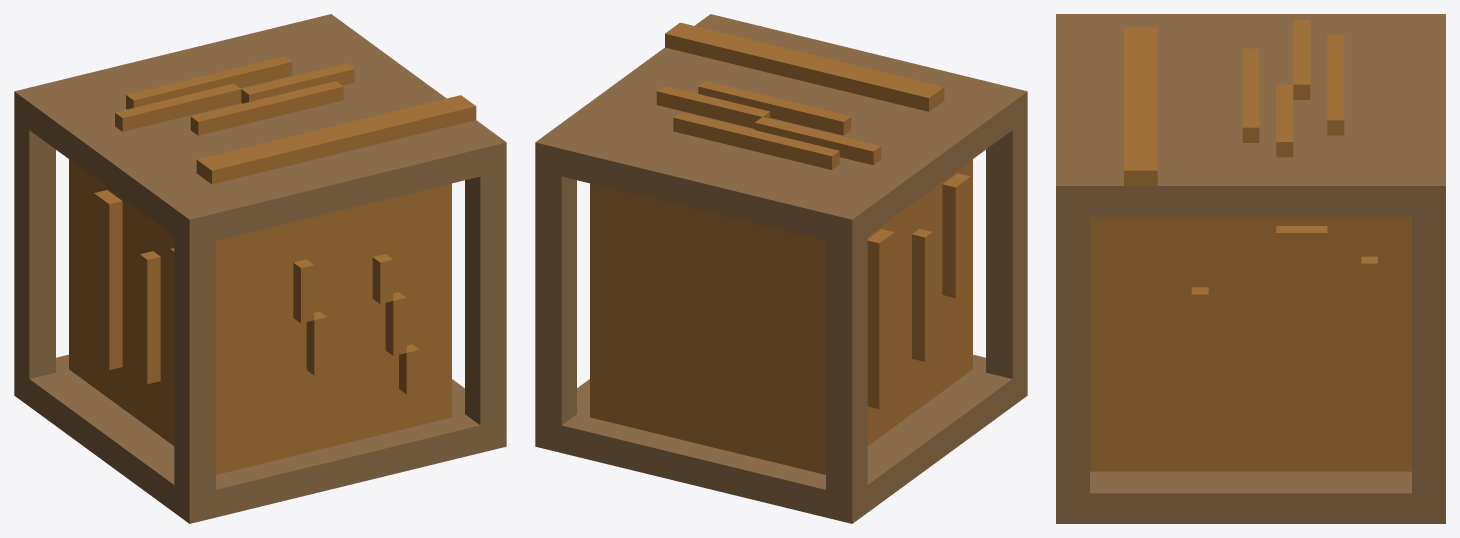
The model's file is WoodenBox.obj.
3 views of the same model, side by side, from view 1: azimuth 30°, elevation 25°; view 2: azimuth 150°, elevation 25°; view 3: azimuth 270°, elevation 25° (orthographic). The views are drawn at different scales.
Parts seen in each view (by area): view 1: WoodenBox; view 2: WoodenBox; view 3: WoodenBox.
Boxes of the visible parts, x1,y1,x2,y2 form: WoodenBox: (14, 14, 506, 523); WoodenBox: (535, 14, 1027, 523); WoodenBox: (1056, 14, 1445, 523).
Size of the model in its own units: 24 by 23 by 23.
1 material, 1 textured.
